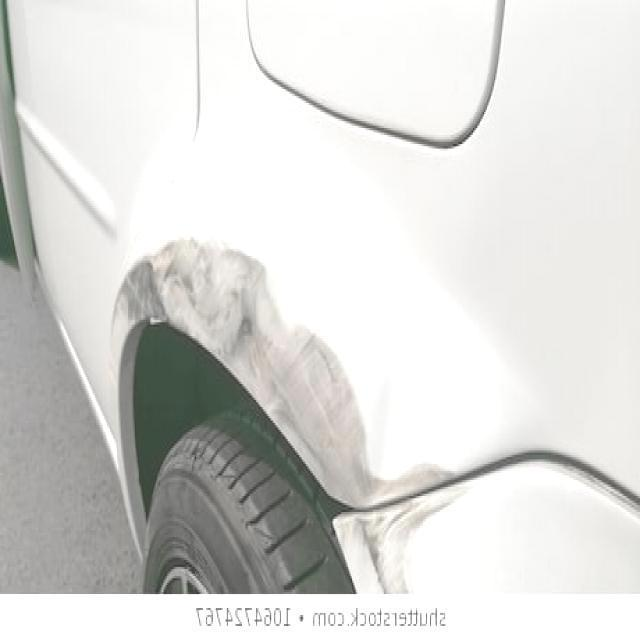minor: (362, 295, 416, 465)
moderate: (107, 217, 469, 506), (335, 491, 459, 594)
